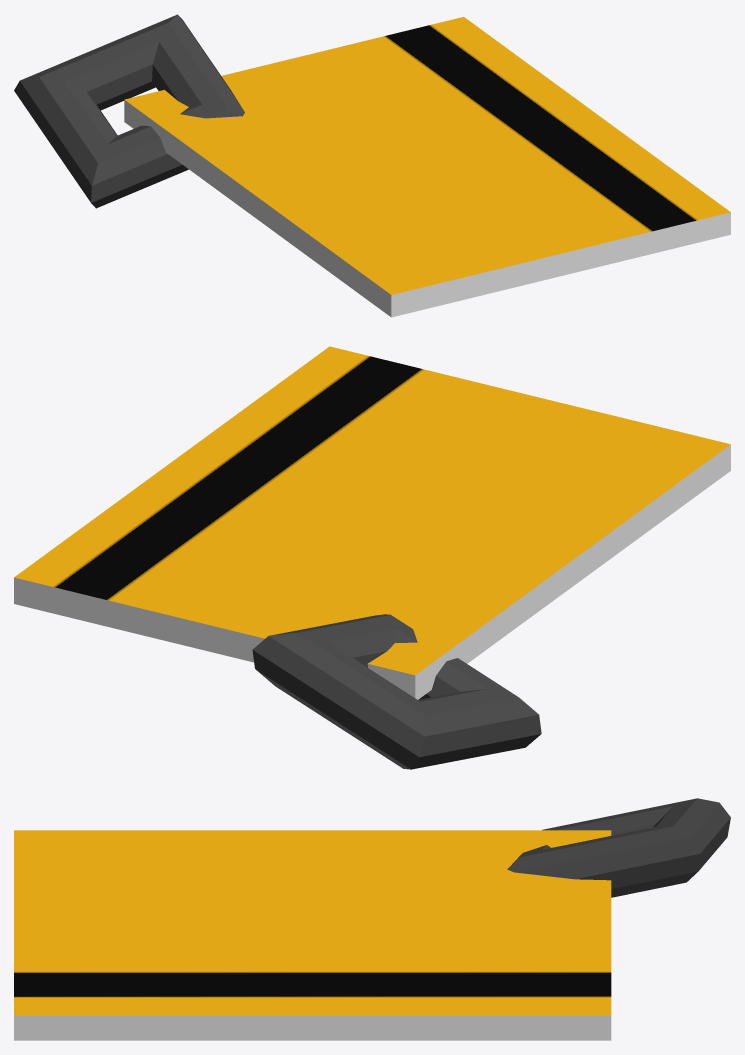
The model's file is Keycard_Yellow.fbx.
The picture shows the model from 3 angles, top to bottom: view 1: azimuth 30°, elevation 25°; view 2: azimuth 150°, elevation 25°; view 3: azimuth 270°, elevation 25°; orthographic projection. The views are drawn at different scales.
Visible parts, largest first — view 1: KeyCard_Yellow; view 2: KeyCard_Yellow; view 3: KeyCard_Yellow.
Part boxes in pixels (x1,y1,x2,y2): KeyCard_Yellow: (14,14,730,317); KeyCard_Yellow: (14,346,730,769); KeyCard_Yellow: (14,798,730,1040).
Bounding box in the file's own units: 2.15 × 0.5527 × 2.91.
Materials: 1 (1 with a texture image).
